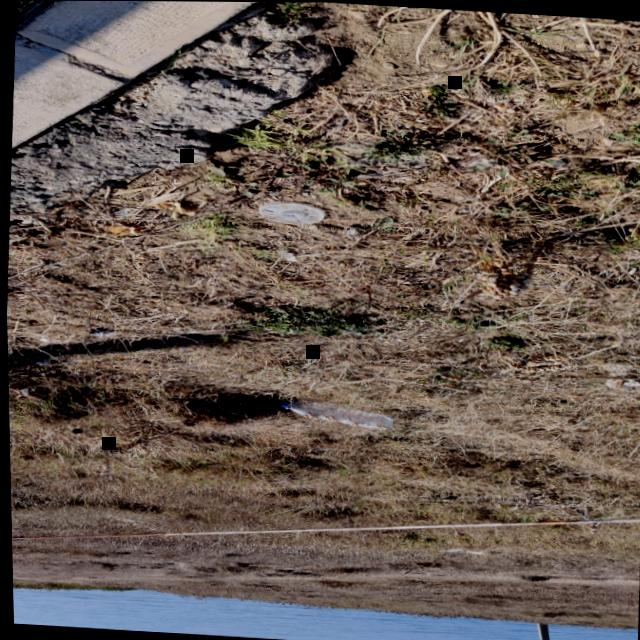Clear plastic bottle: (279, 401, 392, 429)
Plastic bottle cap: (279, 402, 287, 407)
Plastic film: (18, 388, 26, 395)
Plastic lid: (257, 201, 324, 224)
Unlabeled litter: (440, 548, 480, 554), (85, 329, 111, 337)
